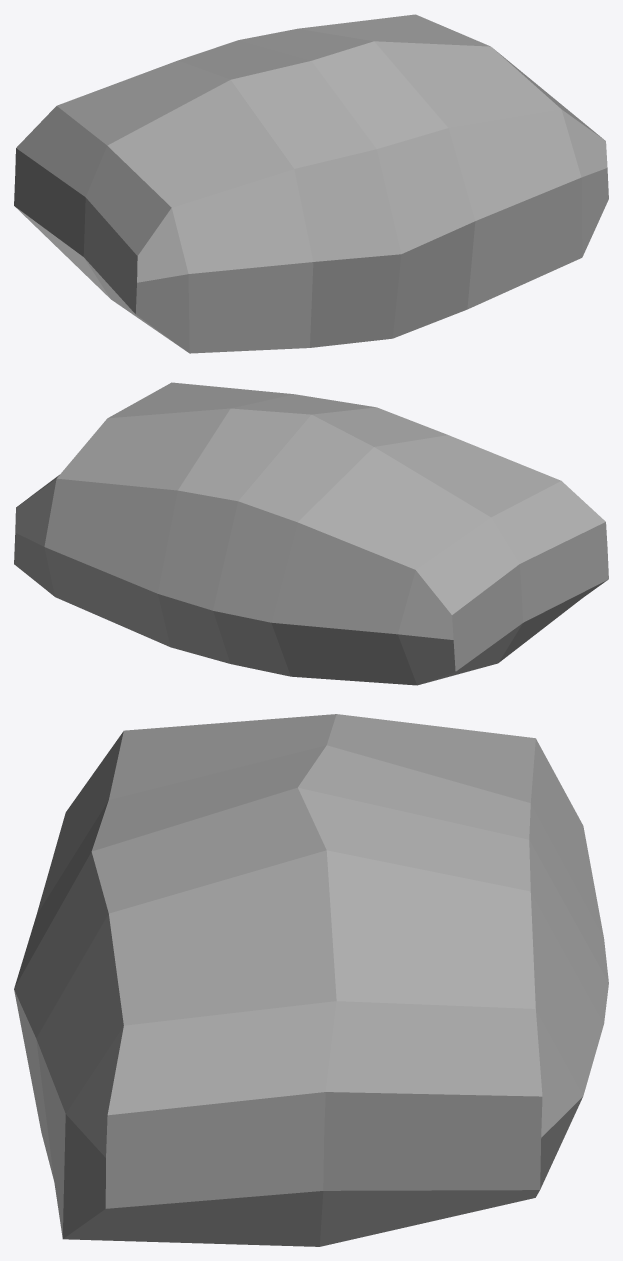
The model's file is Pillow2.fbx.
3 views of the same model, one above another, from view 1: azimuth 30°, elevation 25°; view 2: azimuth 150°, elevation 25°; view 3: azimuth 270°, elevation 25° (orthographic). The views are drawn at different scales.
Visible parts, largest first — view 1: Prop_GenericPillow_01; view 2: Prop_GenericPillow_01; view 3: Prop_GenericPillow_01.
Boxes of the visible parts, <box> form: Prop_GenericPillow_01: <box>14,14,608,353</box>; Prop_GenericPillow_01: <box>14,382,608,685</box>; Prop_GenericPillow_01: <box>14,714,608,1246</box>.
Size of the model in its own units: 56.54 by 28.22 by 39.
Materials: 1 (1 with a texture image).
